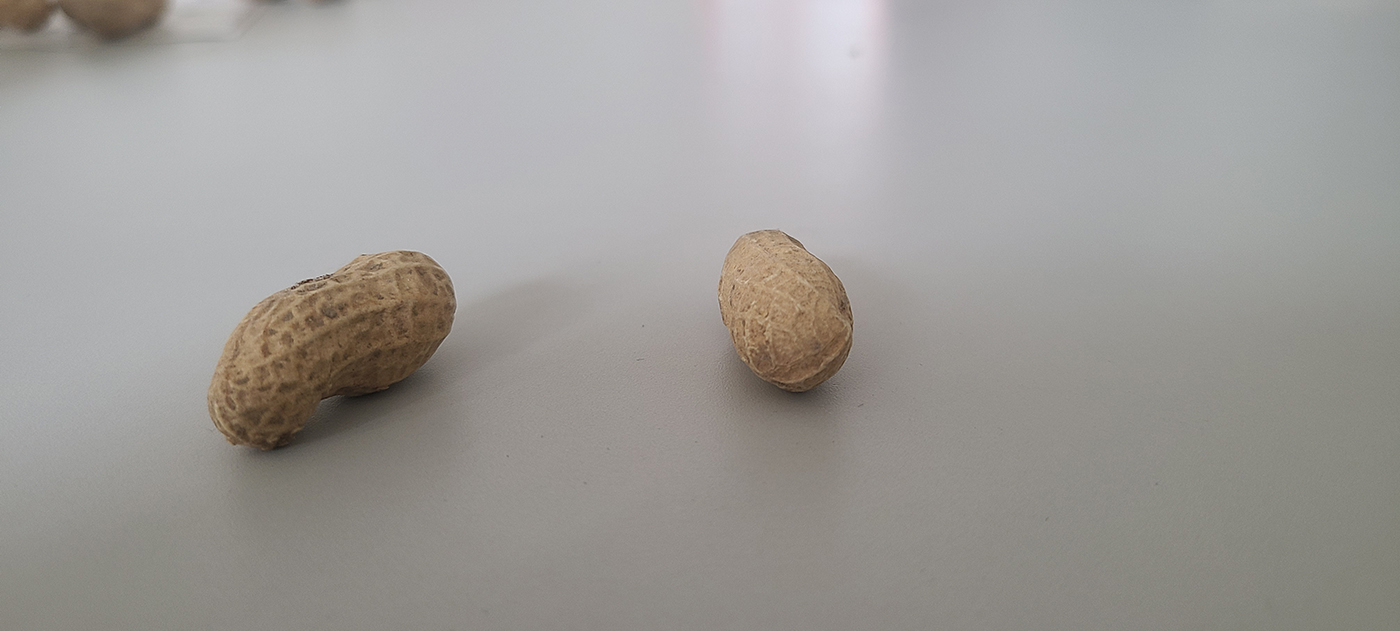h: (209, 247, 456, 451), (714, 224, 853, 393)
